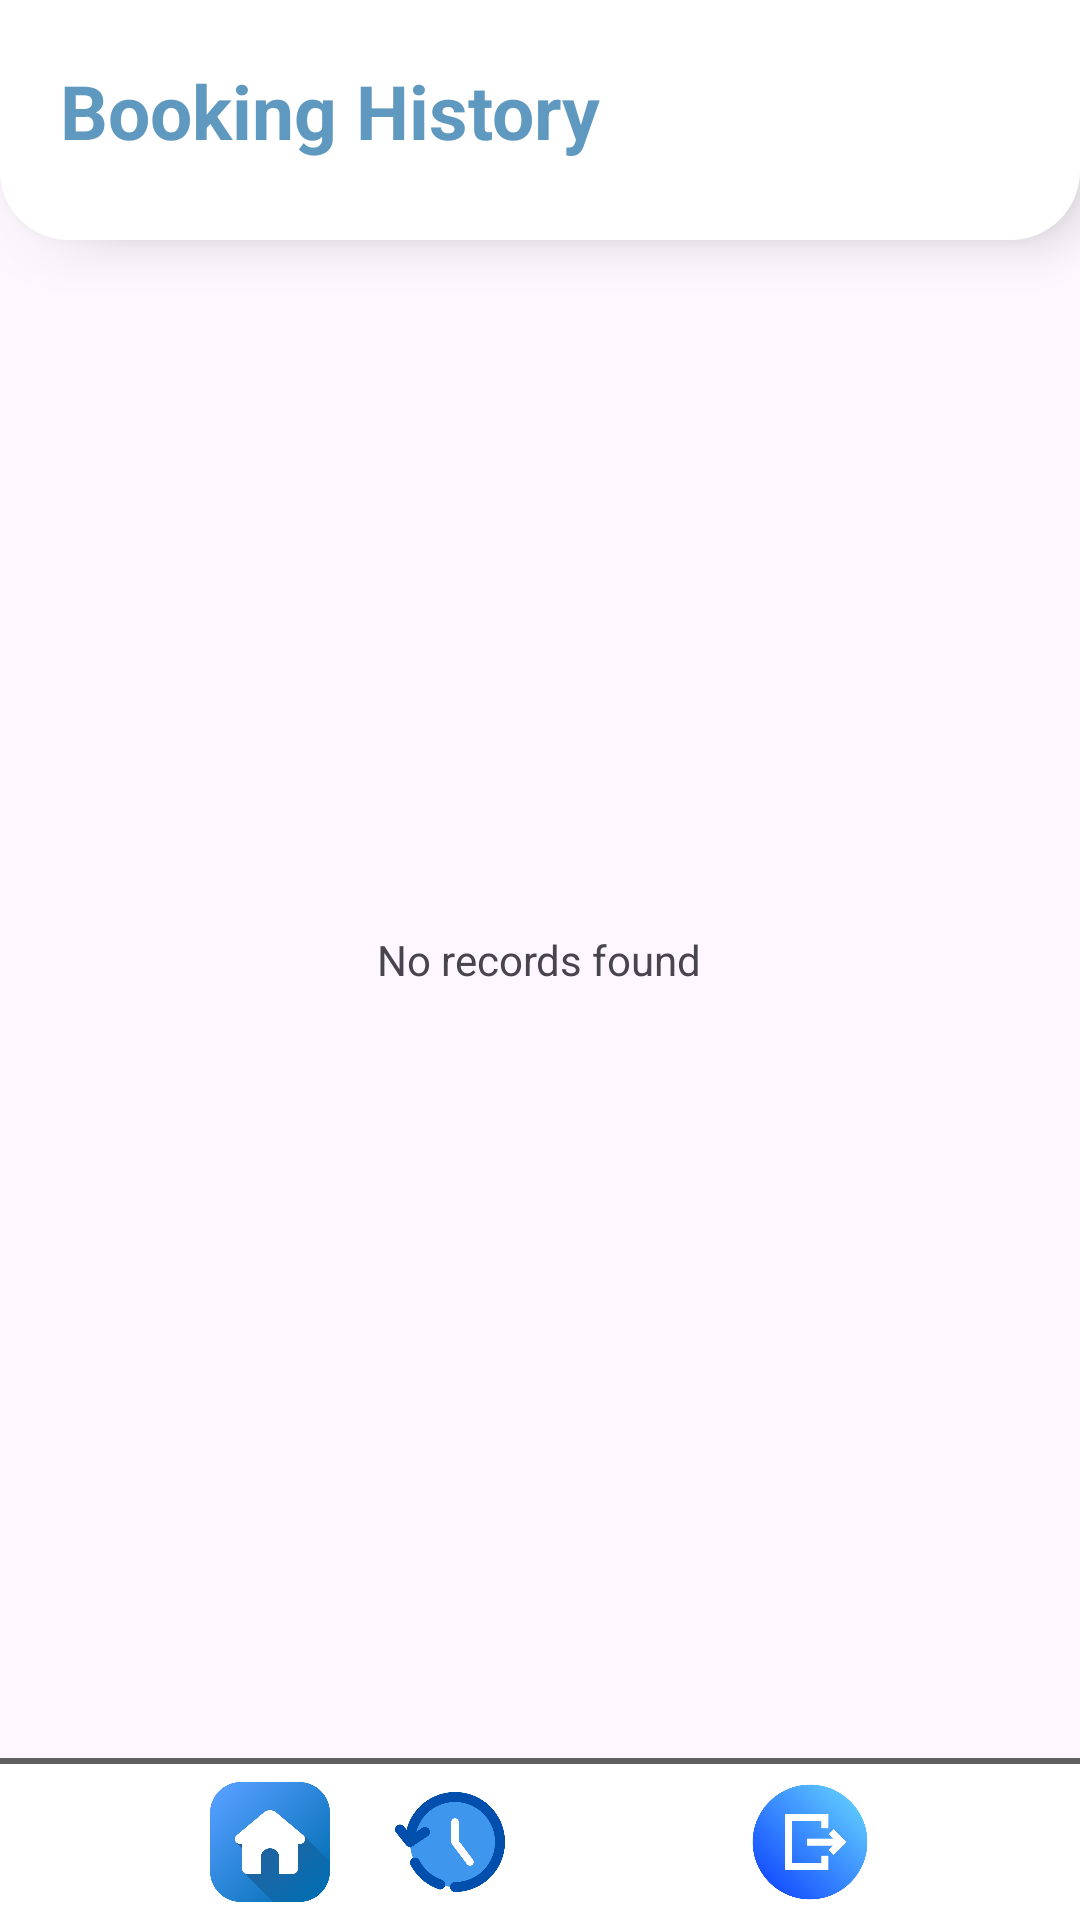

Point at icon controls on the screen. Image size 1080×1920, points as (x=x, y=y).
clock: (x=450, y=1842)
home: (x=270, y=1842)
log: (x=810, y=1842)
